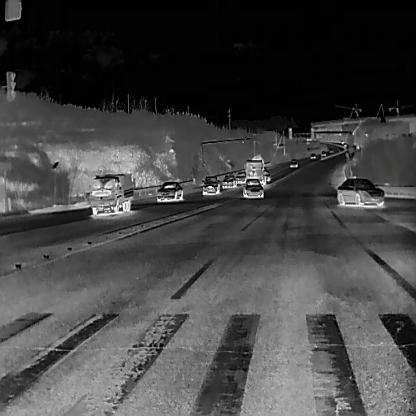car: (336, 177, 384, 206), (155, 180, 183, 202), (242, 177, 264, 198), (201, 175, 220, 195), (221, 174, 236, 188), (233, 170, 246, 184), (264, 169, 271, 181), (289, 158, 297, 168), (320, 150, 326, 156), (310, 152, 316, 158), (328, 147, 333, 153), (342, 142, 346, 146), (338, 147, 342, 151), (340, 139, 343, 144)
truck: (88, 172, 134, 216), (244, 154, 266, 184), (355, 143, 359, 149)
